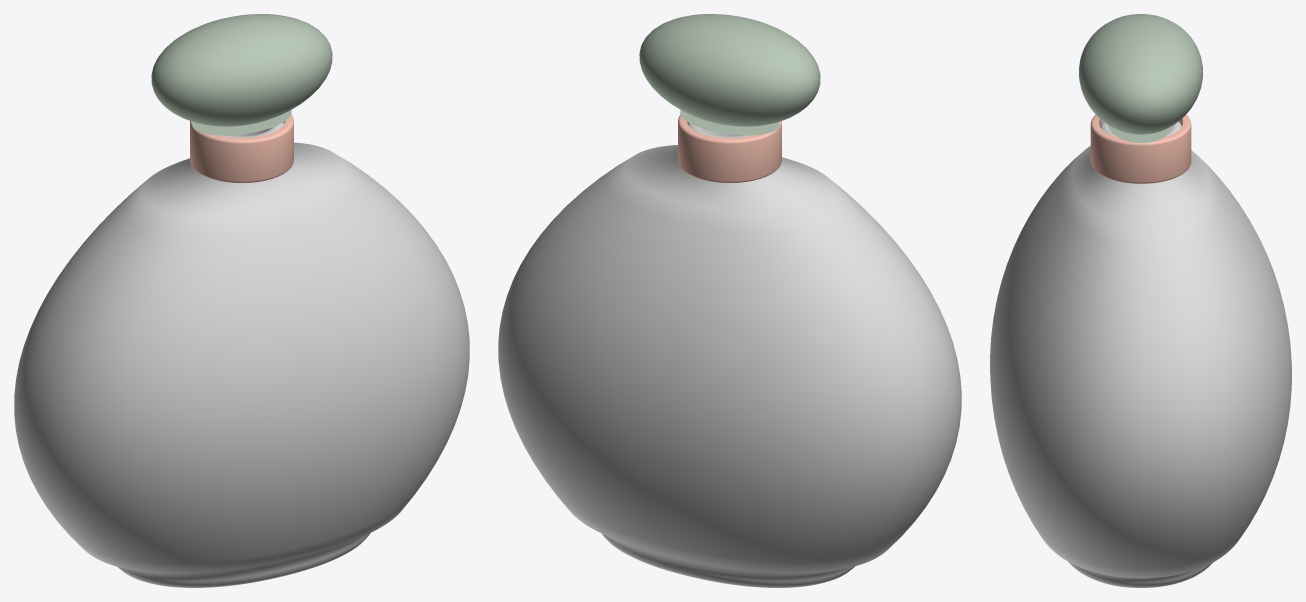
The model's file is organic-tidal.glb.
The picture shows the model from 3 angles, left to right: view 1: azimuth 30°, elevation 25°; view 2: azimuth 150°, elevation 25°; view 3: azimuth 270°, elevation 25°; orthographic projection. The views are drawn at different scales.
Visible parts, largest first — view 1: Glass_Body, Cap, Collar; view 2: Glass_Body, Cap, Collar; view 3: Glass_Body, Cap, Collar.
Boxes of the visible parts, bbox=[...] form: Glass_Body: bbox=[14, 122, 469, 587]; Cap: bbox=[151, 14, 332, 135]; Collar: bbox=[190, 114, 293, 182]; Glass_Body: bbox=[498, 122, 961, 587]; Cap: bbox=[639, 14, 820, 135]; Collar: bbox=[678, 114, 781, 182]; Glass_Body: bbox=[990, 121, 1291, 587]; Cap: bbox=[1079, 14, 1202, 143]; Collar: bbox=[1090, 114, 1191, 183].
Size of the model in its own units: 0.0867 by 0.1016 by 0.0551.
